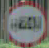Heavy Vehicles: (3, 3, 46, 47)
